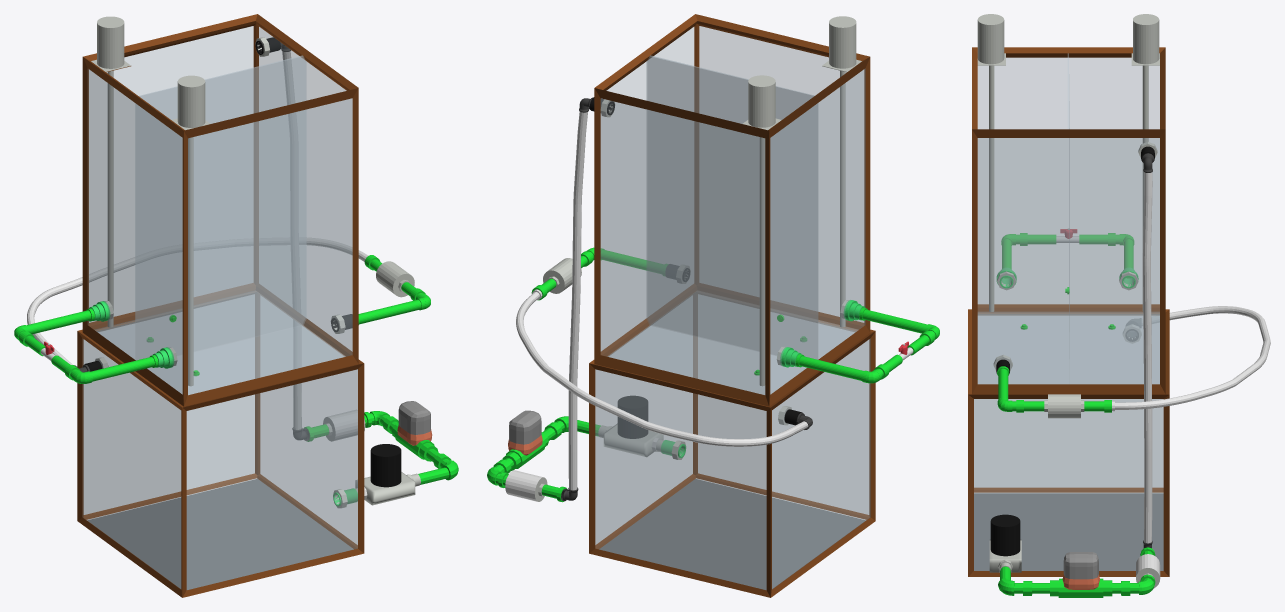
The model's file is maketa.glb.
The picture shows the model from 3 angles, left to right: view 1: azimuth 30°, elevation 25°; view 2: azimuth 150°, elevation 25°; view 3: azimuth 270°, elevation 25°; orthographic projection. The views are drawn at different scales.
Parts seen in each view (by area): view 1: Cube.003, Cube.001, Cube.002, Plane, Cube, Plane.008, Plane.005, Plane.002, Plane.003, Plane.004, Cylinder.026, Cylinder.025 (+6 smaller); view 2: Cube.003, Cube.001, Cube.002, Plane, Cube, Plane.008, Plane.005, Plane.002, Plane.004, Plane.003, Cylinder.026, Cylinder.025 (+6 smaller); view 3: Cube.003, Cube.001, Plane, Cube.002, Cube, Plane.008, Plane.005, Plane.004, Plane.003, Plane.002, Cylinder.025, Cylinder.002 (+6 smaller).
Boxes of the visible parts, x1,y1,x2,y2 form: Cube.003: (88, 26, 352, 394); Cube.001: (82, 323, 357, 589); Cube.002: (82, 14, 358, 406); Plane: (88, 479, 353, 589); Cube: (77, 291, 364, 597); Plane.008: (282, 51, 301, 429); Plane.005: (27, 237, 368, 364); Plane.002: (14, 308, 158, 383); Plane.003: (358, 255, 430, 324); Plane.004: (304, 411, 458, 484); Cylinder.026: (107, 70, 113, 327); Cylinder.025: (188, 137, 193, 386); Cube.003: (600, 26, 865, 394); Cube.001: (595, 323, 870, 589); Cube.002: (594, 14, 870, 406); Plane: (599, 479, 865, 589); Cube: (589, 291, 875, 597); Plane.008: (568, 112, 587, 490); Plane.005: (516, 289, 808, 446); Plane.002: (795, 307, 939, 383); Plane.004: (487, 416, 600, 502); Plane.003: (531, 247, 667, 300); Cylinder.026: (759, 137, 765, 386); Cylinder.025: (840, 70, 845, 327); Cube.003: (977, 53, 1159, 384); Cube.001: (974, 315, 1163, 570); Plane: (974, 493, 1163, 570); Cube.002: (972, 47, 1165, 394); Cube: (968, 309, 1169, 576); Plane.008: (1142, 172, 1152, 543); Plane.005: (1112, 306, 1270, 411); Plane.004: (998, 547, 1155, 597); Plane.003: (997, 366, 1111, 418); Plane.002: (1001, 233, 1133, 278); Cylinder.025: (989, 65, 994, 311); Cylinder.002: (977, 14, 1004, 64).
Size of the model in its own units: 4.37 by 5.4 by 3.07.
